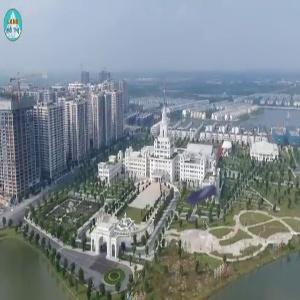drone: (151, 141, 246, 236)
